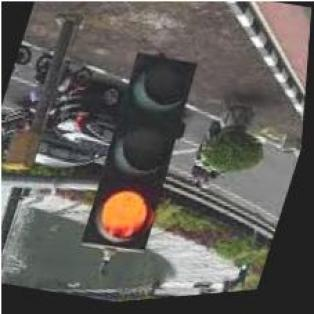Semaforo Rojo: (76, 50, 206, 264)
